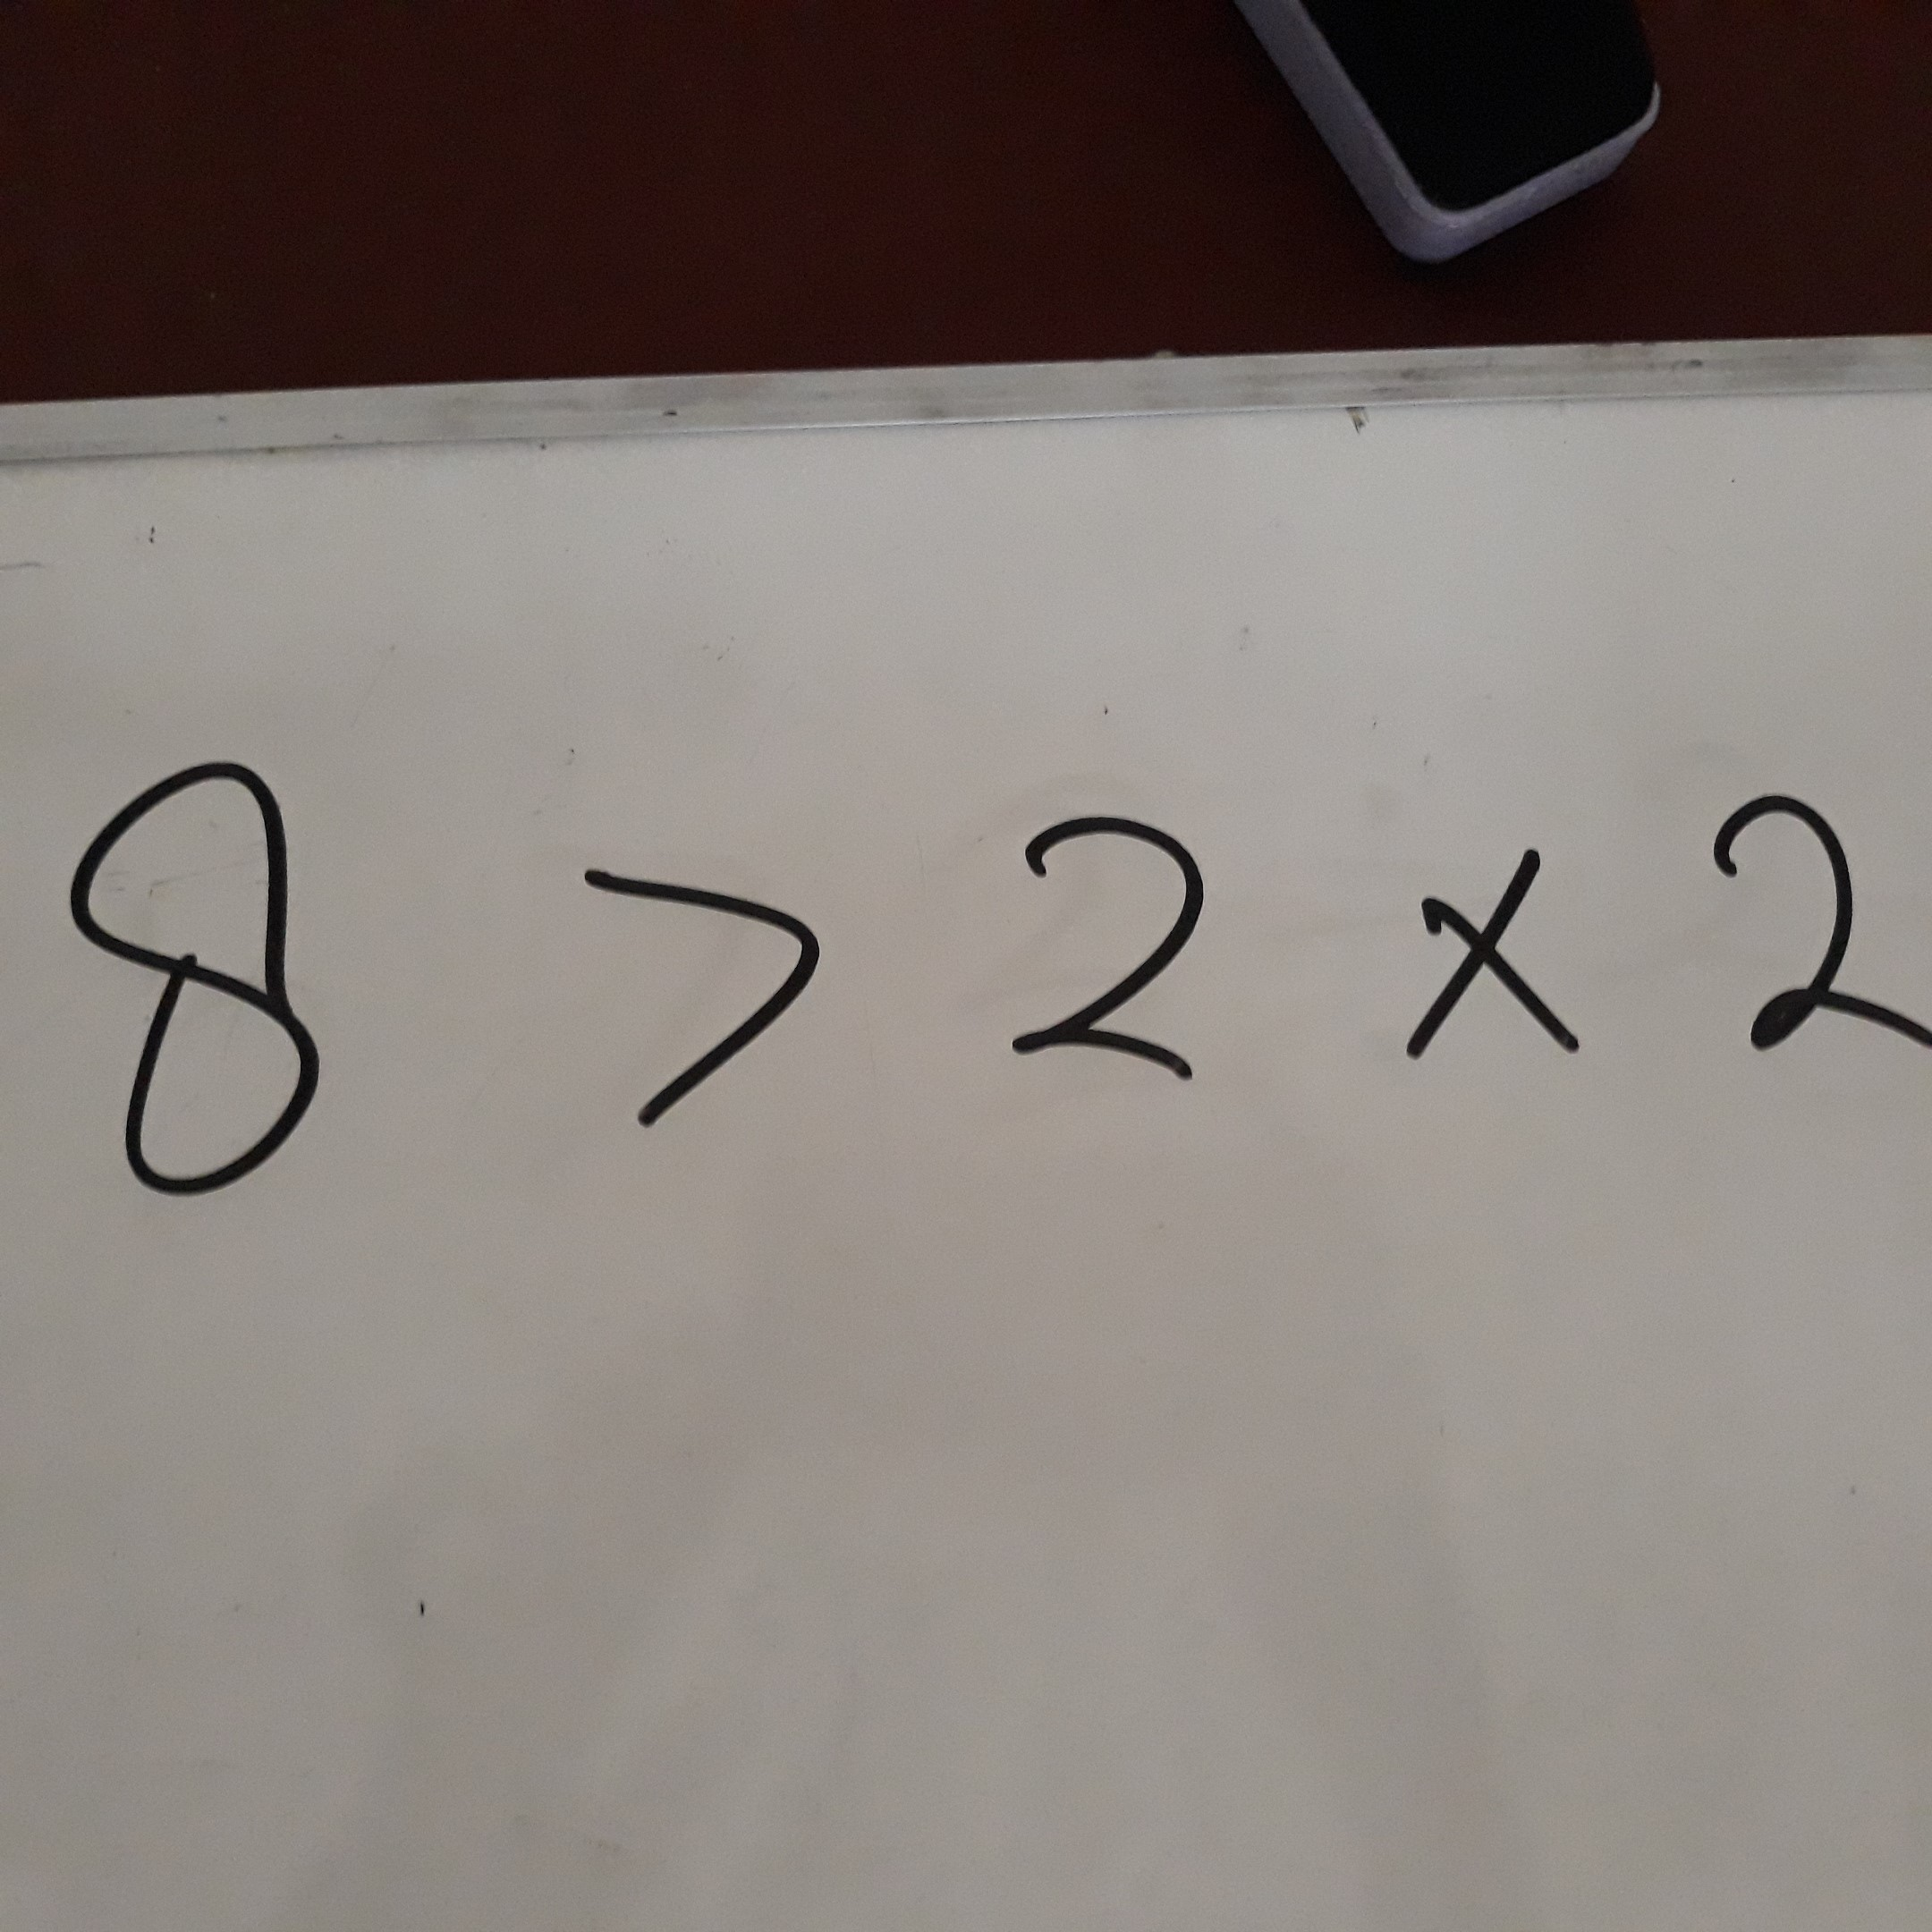morethan: (567, 860, 843, 1147)
multi: (1349, 828, 1612, 1083)
num2: (966, 805, 1241, 1092), (1694, 787, 1932, 1063)
num8: (60, 741, 349, 1205)
